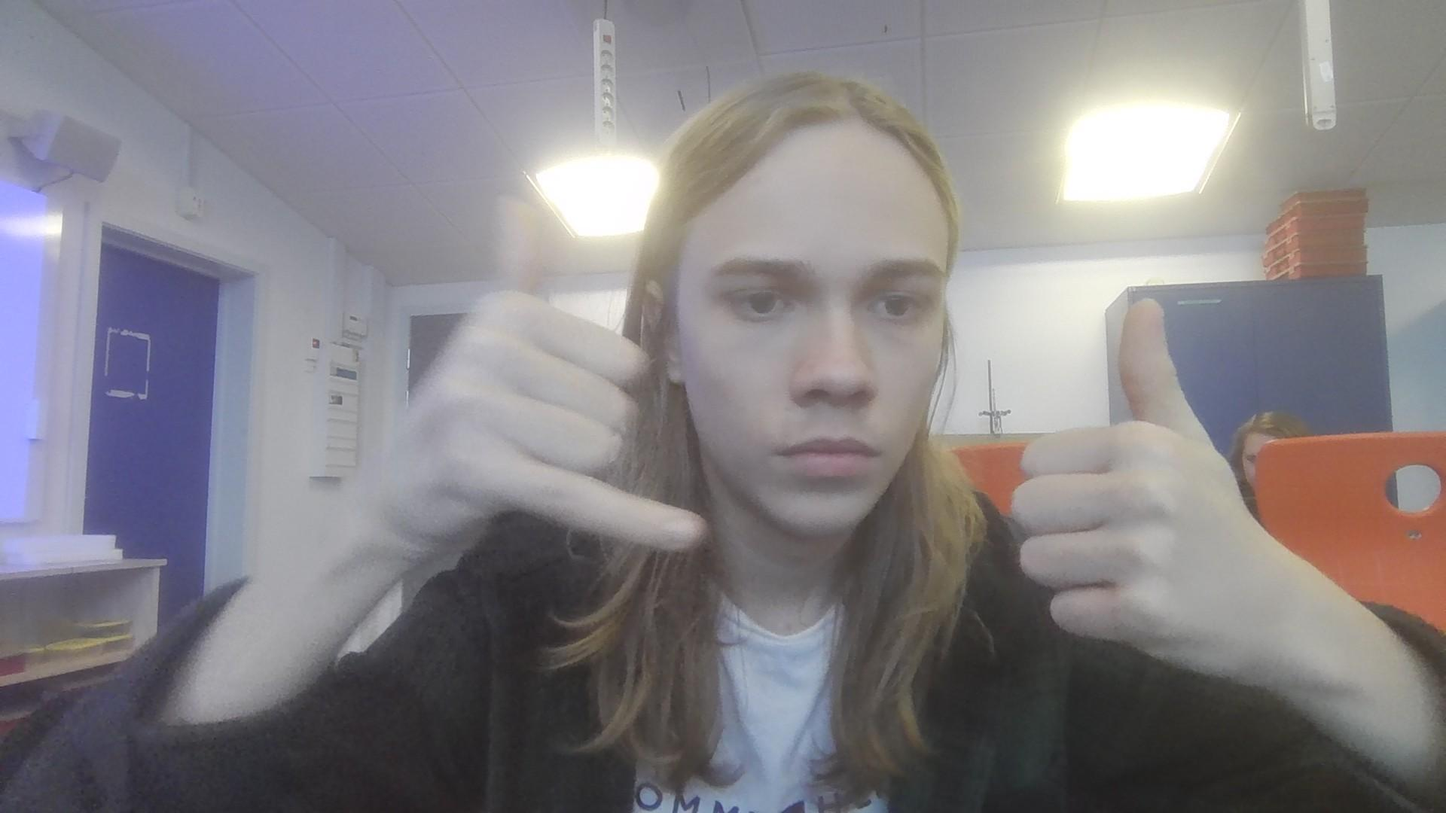thumbs up: (1009, 290, 1277, 682)
